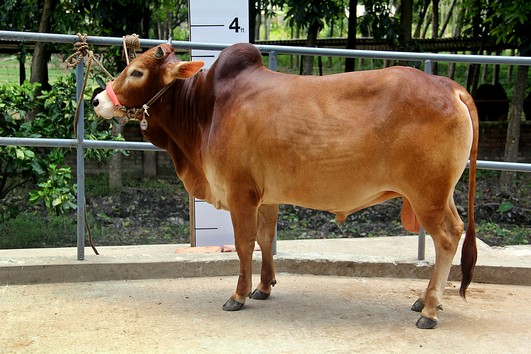cow: (78, 37, 487, 337)
